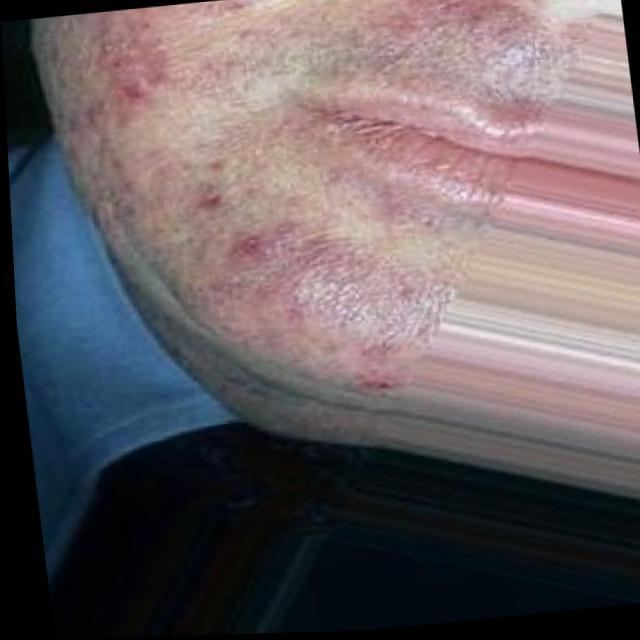Rosacea: (179, 170, 431, 422), (48, 0, 313, 128)
